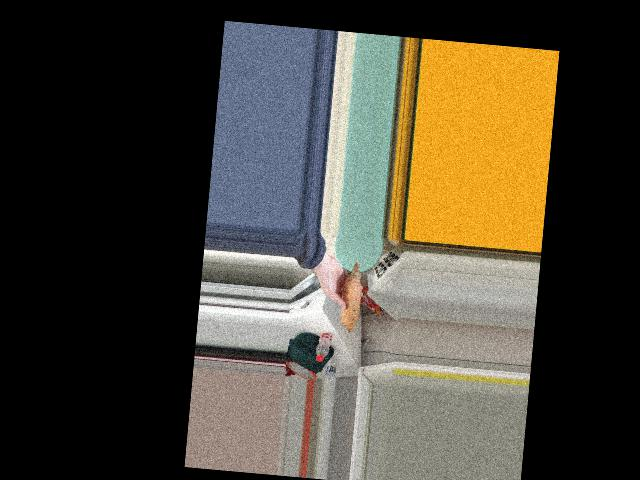sweet_potato: (340, 269, 362, 330)
